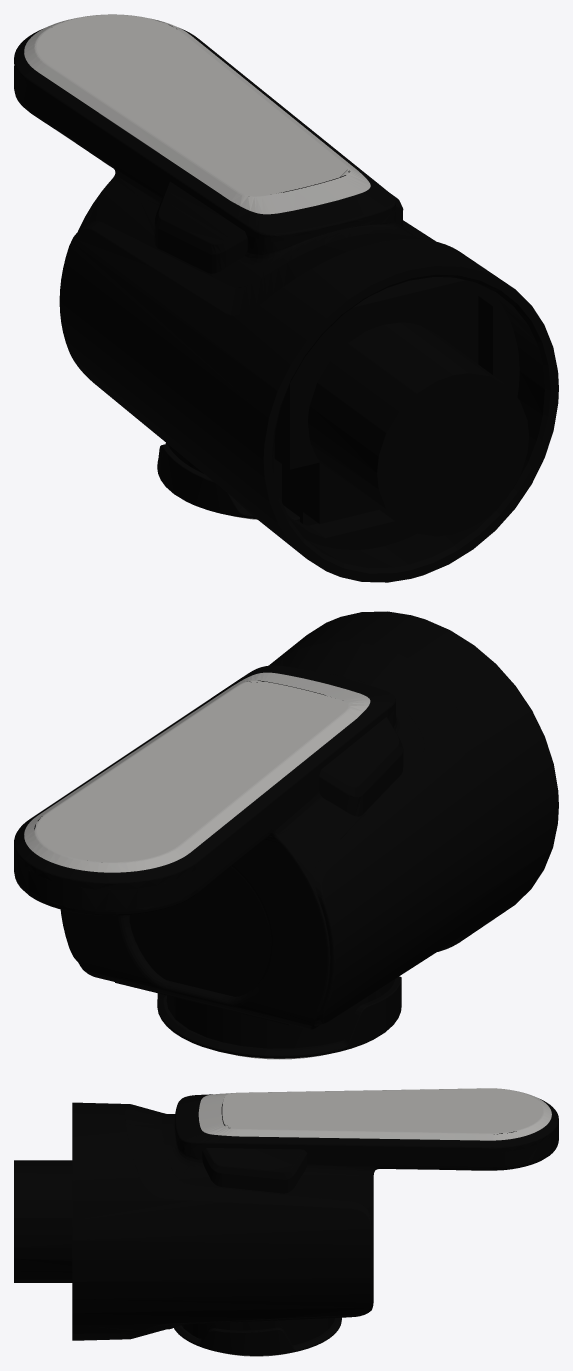
Rendered from right_arm_link5.obj.
3 renders of one model, top to bottom at view 1: azimuth 30°, elevation 25°; view 2: azimuth 150°, elevation 25°; view 3: azimuth 270°, elevation 25°, orthographic. The views are drawn at different scales.
Parts seen in each view (by area): view 1: right_arm_link5; view 2: right_arm_link5; view 3: right_arm_link5.
Part boxes in pixels (bbox=[...]): right_arm_link5: bbox=[14, 14, 558, 582]; right_arm_link5: bbox=[14, 611, 558, 1059]; right_arm_link5: bbox=[14, 1088, 558, 1356].
Bounding box in the file's own units: 0.0816 × 0.0826 × 0.1866.
1 material, 1 textured.
